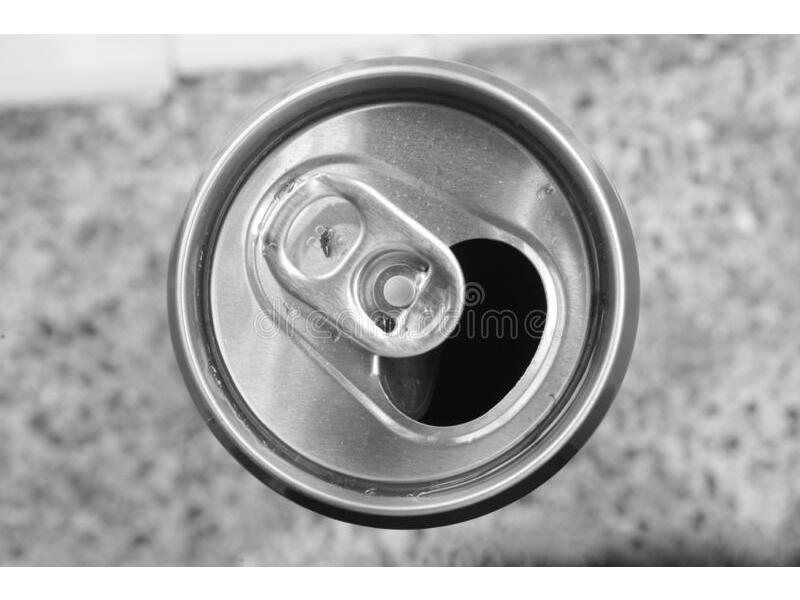can: (154, 43, 659, 536)
